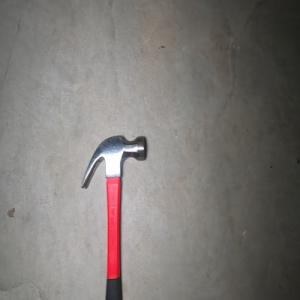Hammer: (80, 133, 146, 300)
